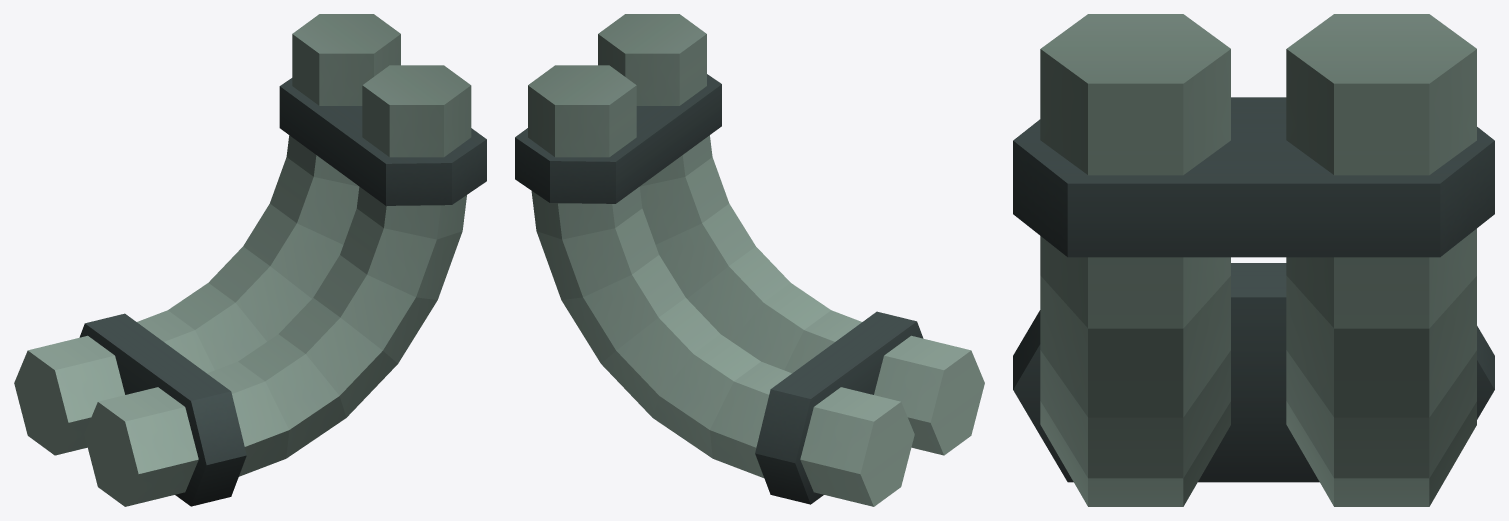
The picture shows the model from 3 angles, left to right: view 1: azimuth 30°, elevation 25°; view 2: azimuth 150°, elevation 25°; view 3: azimuth 270°, elevation 25°; orthographic projection. The views are drawn at different scales.
Visible parts, largest first — view 1: object.010; view 2: object.010; view 3: object.010.
Part boxes in pixels (<box>): object.010: <box>14,14,486,506</box>; object.010: <box>515,14,984,506</box>; object.010: <box>1013,14,1494,506</box>.
Bounding box in the file's own units: 75.05 × 69.99 × 50.18.
